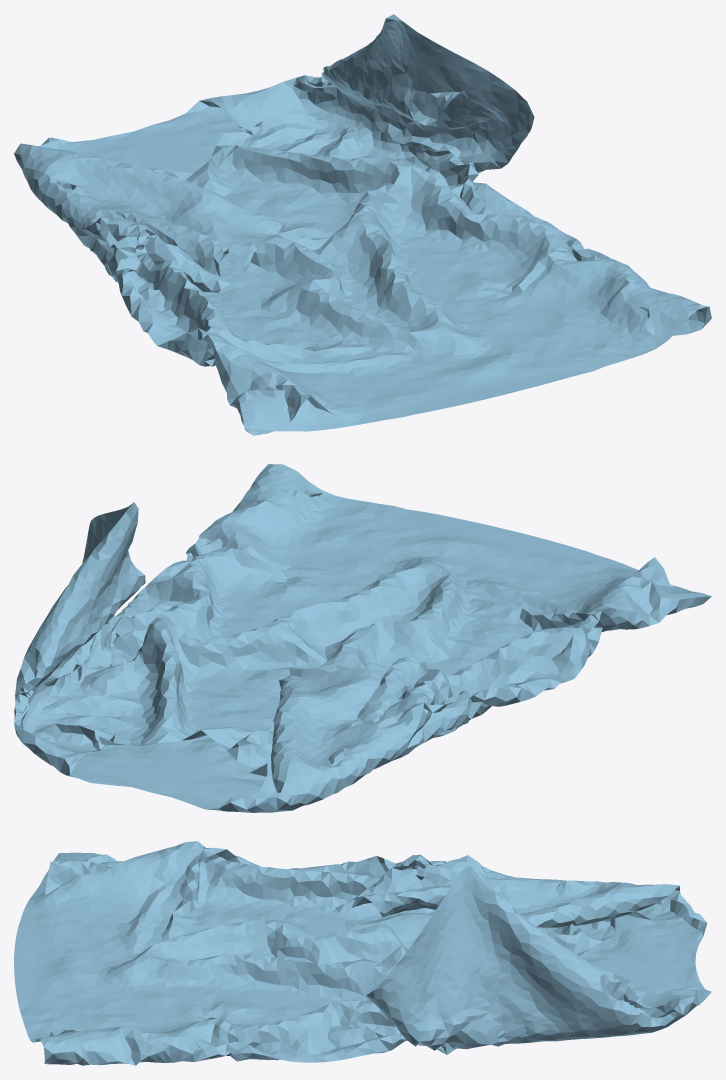
File: frame_11.glb
3 renders of one model, top to bottom at view 1: azimuth 30°, elevation 25°; view 2: azimuth 150°, elevation 25°; view 3: azimuth 270°, elevation 25°, orthographic. The views are drawn at different scales.
Parts seen in each view (by area): view 1: frame_11.obj; view 2: frame_11.obj; view 3: frame_11.obj.
Boxes of the visible parts, <box> form: frame_11.obj: <box>14,14,711,435</box>; frame_11.obj: <box>14,464,711,812</box>; frame_11.obj: <box>14,841,711,1065</box>.
Bounding box in the file's own units: 1.21 × 0.452 × 1.7.
